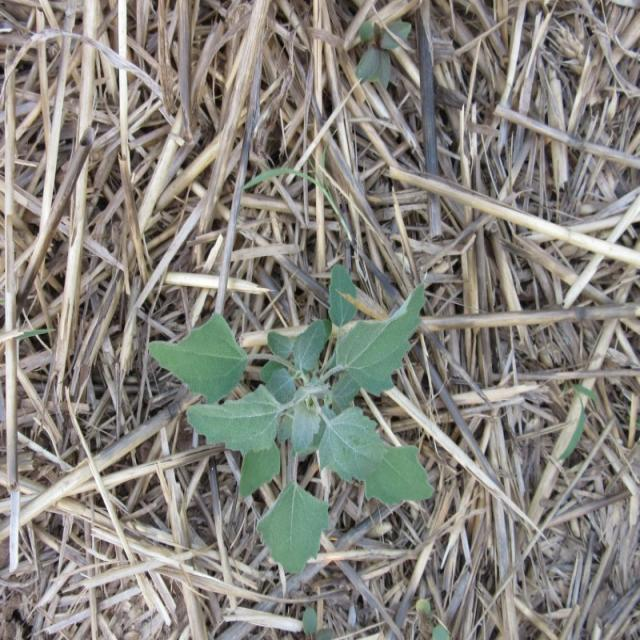ca: (145, 283, 434, 572)
